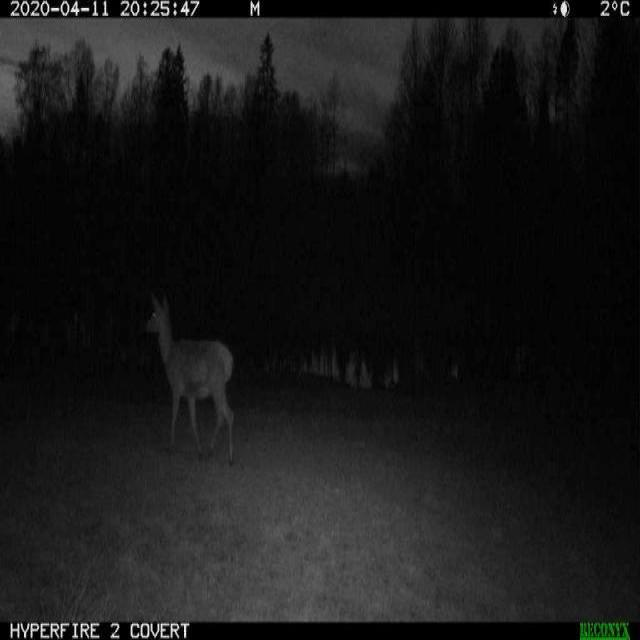deer: (135, 281, 244, 474)
